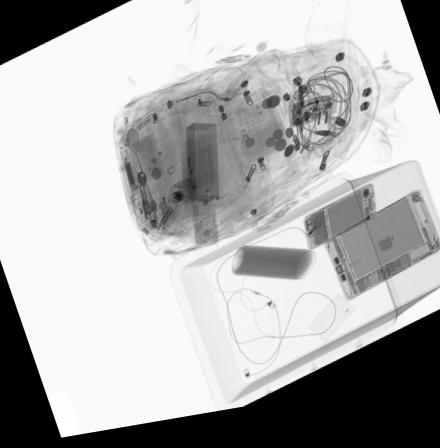Lighter: (185, 157, 197, 195)
